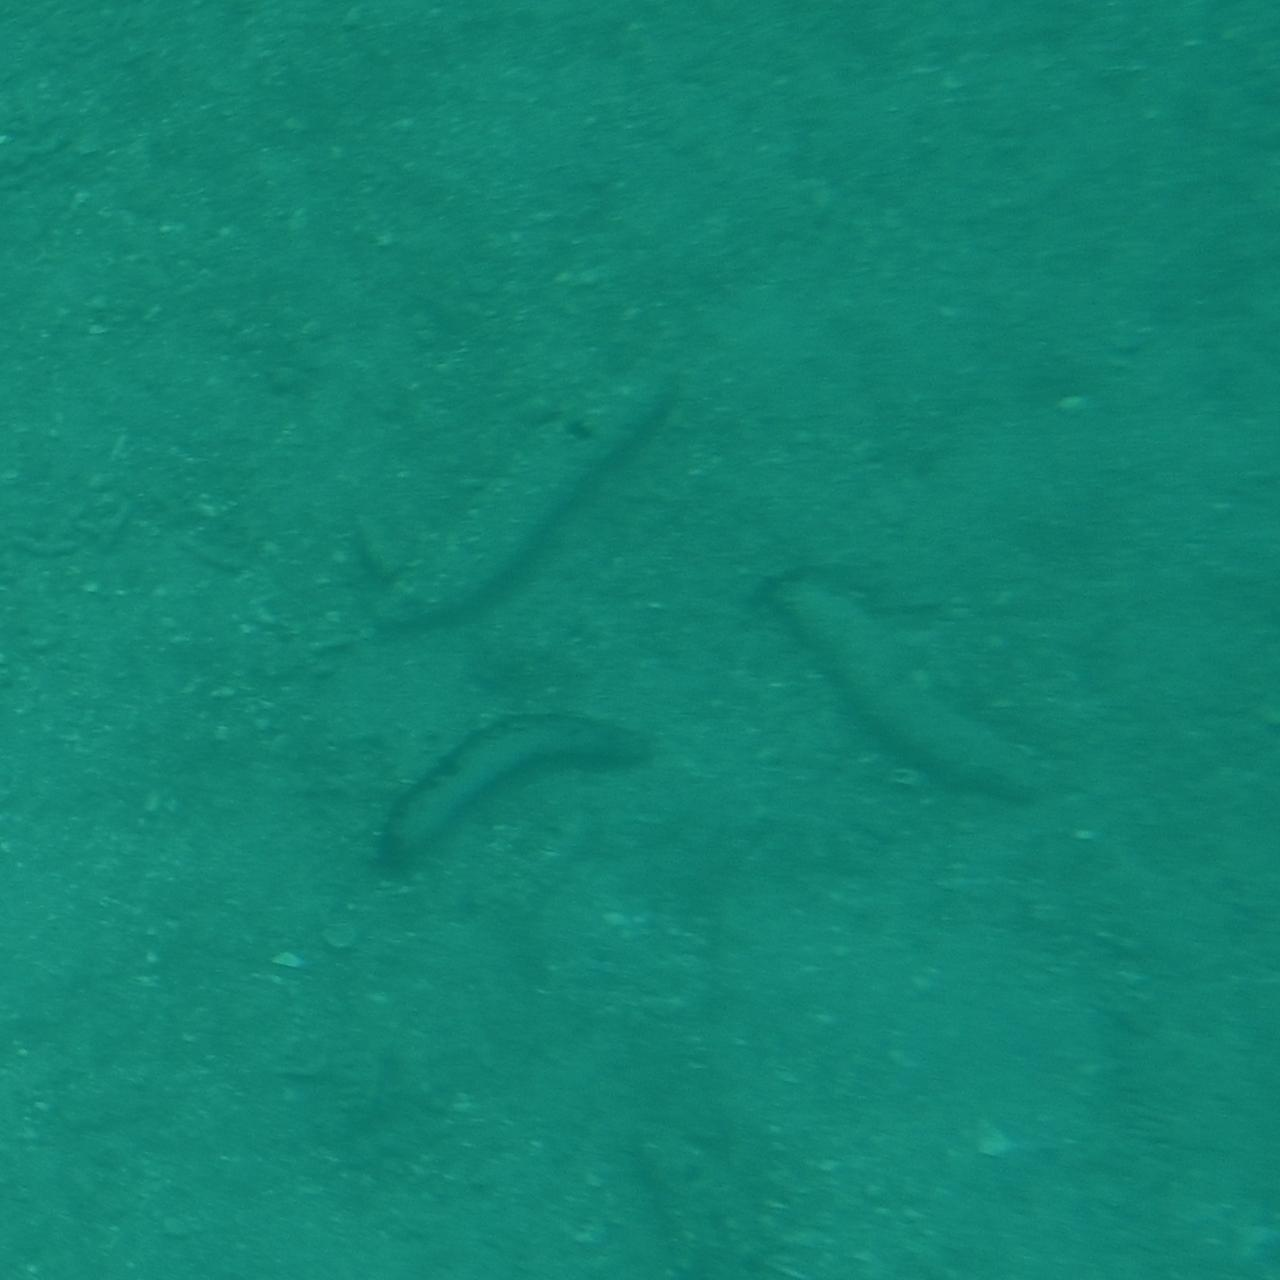Holothuria tubulosa: (354, 348, 656, 624), (796, 565, 1064, 816), (368, 690, 660, 898)
